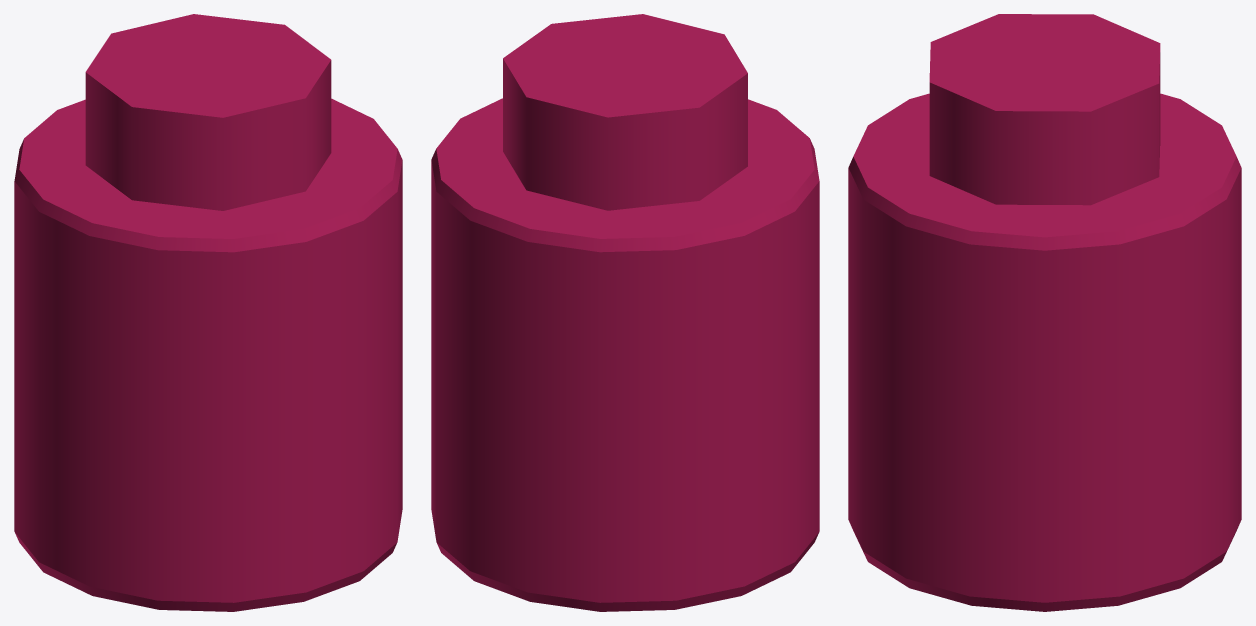
File: Part_Flower_D1.FBX
The picture shows the model from 3 angles, left to right: view 1: azimuth 30°, elevation 25°; view 2: azimuth 150°, elevation 25°; view 3: azimuth 270°, elevation 25°; orthographic projection.
Parts seen in each view (by area): view 1: Cylinder029; view 2: Cylinder029; view 3: Cylinder029.
Part boxes in pixels (<box>): Cylinder029: <box>14,14,402,611</box>; Cylinder029: <box>431,14,819,611</box>; Cylinder029: <box>848,14,1241,611</box>.
Bounding box in the file's own units: 95.11 × 125 × 95.11.
